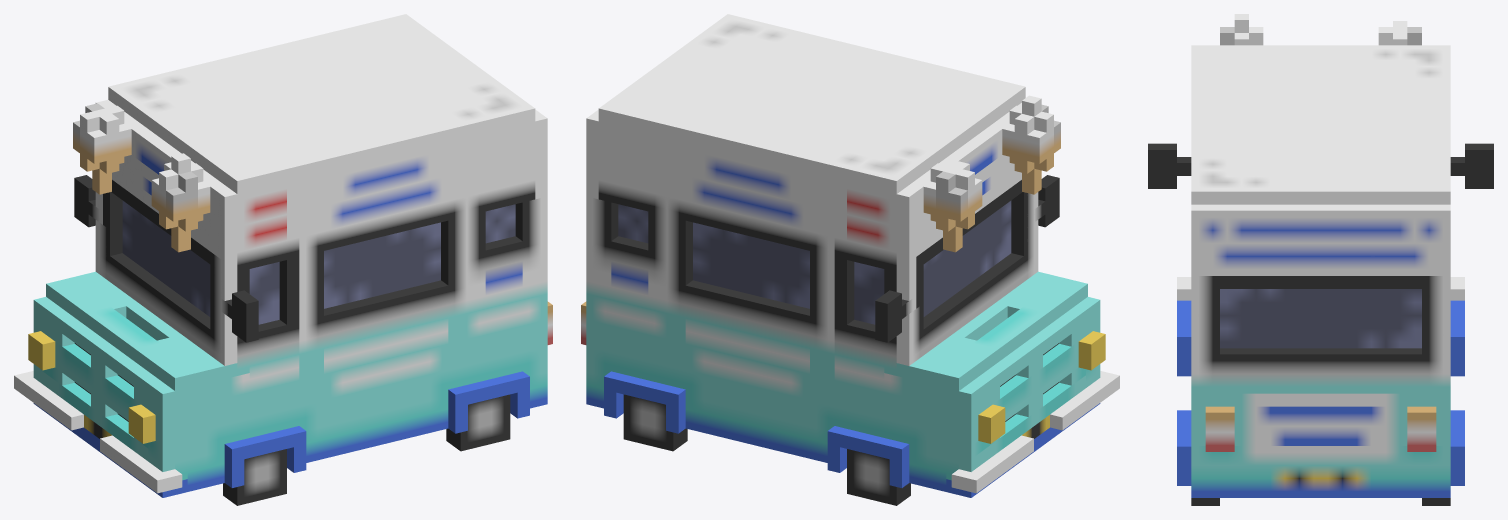
File: icecreamvan.obj
3 views of the same model, side by side, from view 1: azimuth 30°, elevation 25°; view 2: azimuth 150°, elevation 25°; view 3: azimuth 270°, elevation 25° (orthographic).
Parts seen in each view (by area): view 1: Box_70; view 2: Box_70; view 3: Box_70.
Boxes of the visible parts, bbox=[...] form: Box_70: bbox=[14, 14, 552, 505]; Box_70: bbox=[581, 14, 1119, 505]; Box_70: bbox=[1148, 14, 1493, 505].
Bounding box in the file's own units: 33 × 26 × 24.
1 material, 1 textured.
